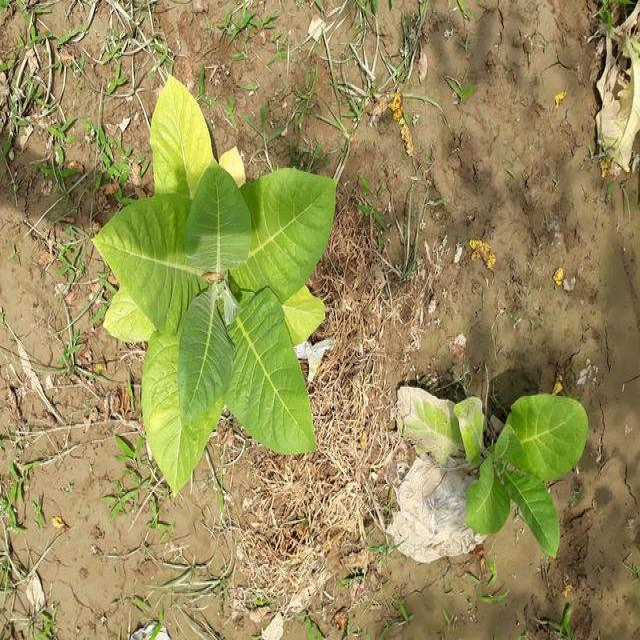crop: (98, 79, 340, 486), (382, 383, 578, 577)
